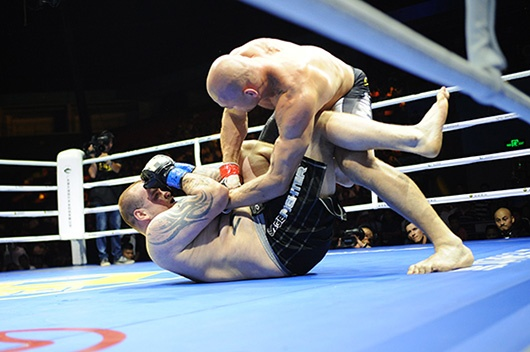falling: (120, 83, 472, 273)
